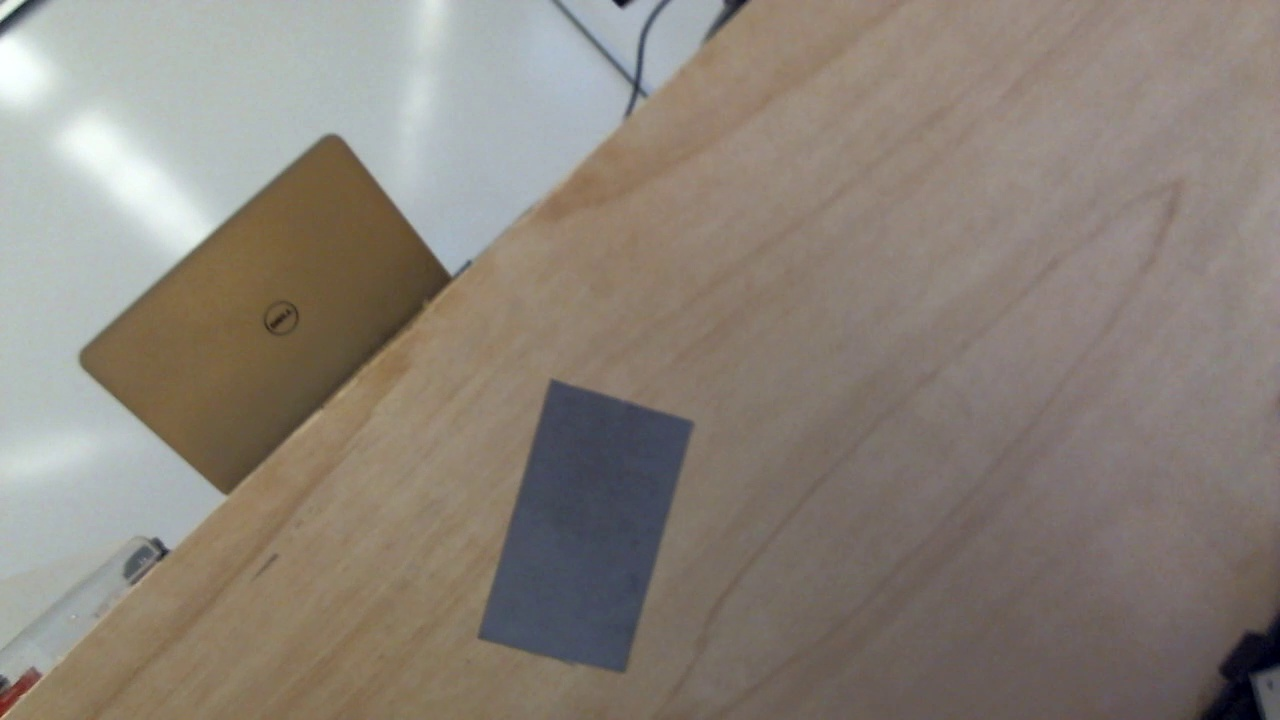Tape: (473, 379, 696, 671)
